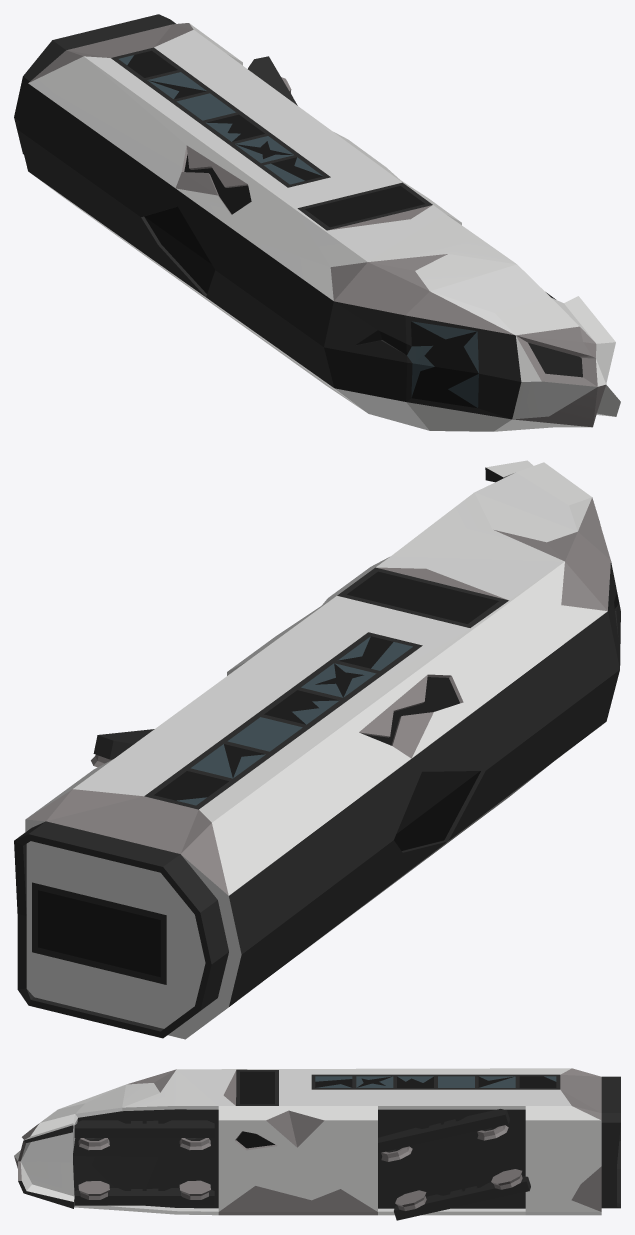
File: apocalypse_train-speed-apocalypse-a.fbx
The picture shows the model from 3 angles, top to bottom: view 1: azimuth 30°, elevation 25°; view 2: azimuth 150°, elevation 25°; view 3: azimuth 270°, elevation 25°; orthographic projection. The views are drawn at different scales.
Visible parts, largest first — view 1: apocalypse_train_speed_apocalypse_a; view 2: apocalypse_train_speed_apocalypse_a; view 3: apocalypse_train_speed_apocalypse_a.
Part boxes in pixels (left/top/right/bottom): apocalypse_train_speed_apocalypse_a: left=14, top=14, right=620, bottom=431; apocalypse_train_speed_apocalypse_a: left=14, top=460, right=620, bottom=1039; apocalypse_train_speed_apocalypse_a: left=14, top=1068, right=620, bottom=1220.
Size of the model in its own units: 52.83 by 40.38 by 200.
